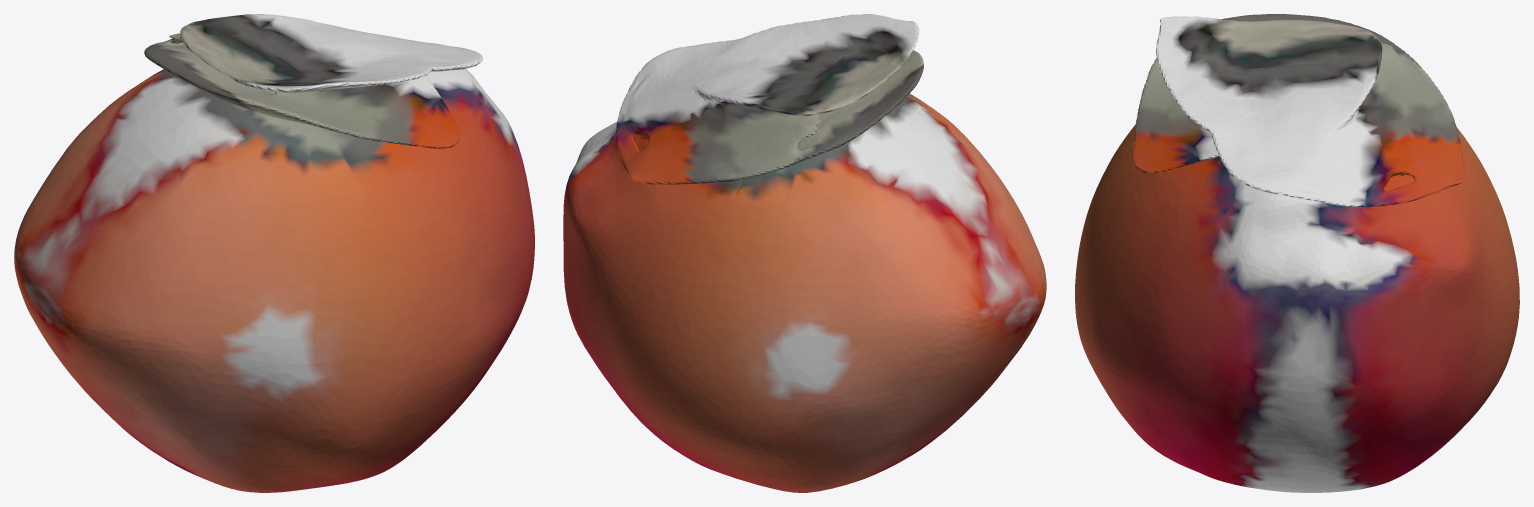
File: tomato.glb
3 views of the same model, side by side, from view 1: azimuth 30°, elevation 25°; view 2: azimuth 150°, elevation 25°; view 3: azimuth 270°, elevation 25° (orthographic). The views are drawn at different scales.
Parts seen in each view (by area): view 1: geometry_0; view 2: geometry_0; view 3: geometry_0.
Boxes of the visible parts, x1=… form: geometry_0: x1=14, y1=14, x2=534, y2=492; geometry_0: x1=563, y1=14, x2=1046, y2=492; geometry_0: x1=1075, y1=14, x2=1519, y2=492.
Size of the model in its own units: 0.5312 by 0.4829 by 0.4522.
